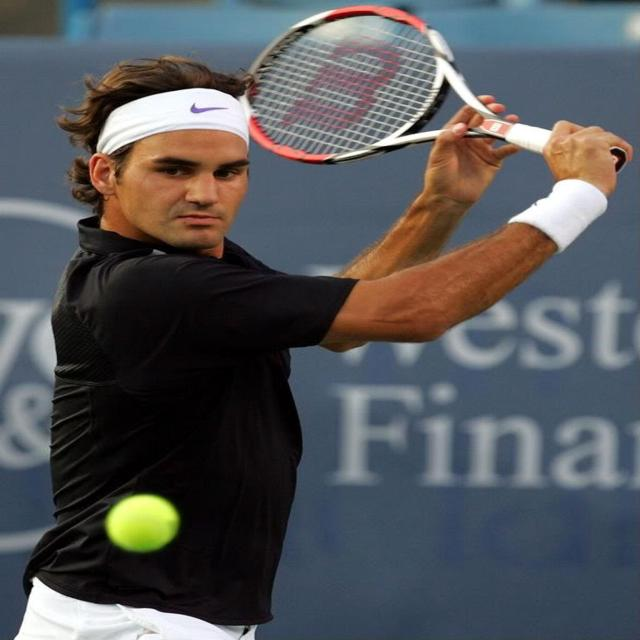Face: (97, 123, 274, 248)
